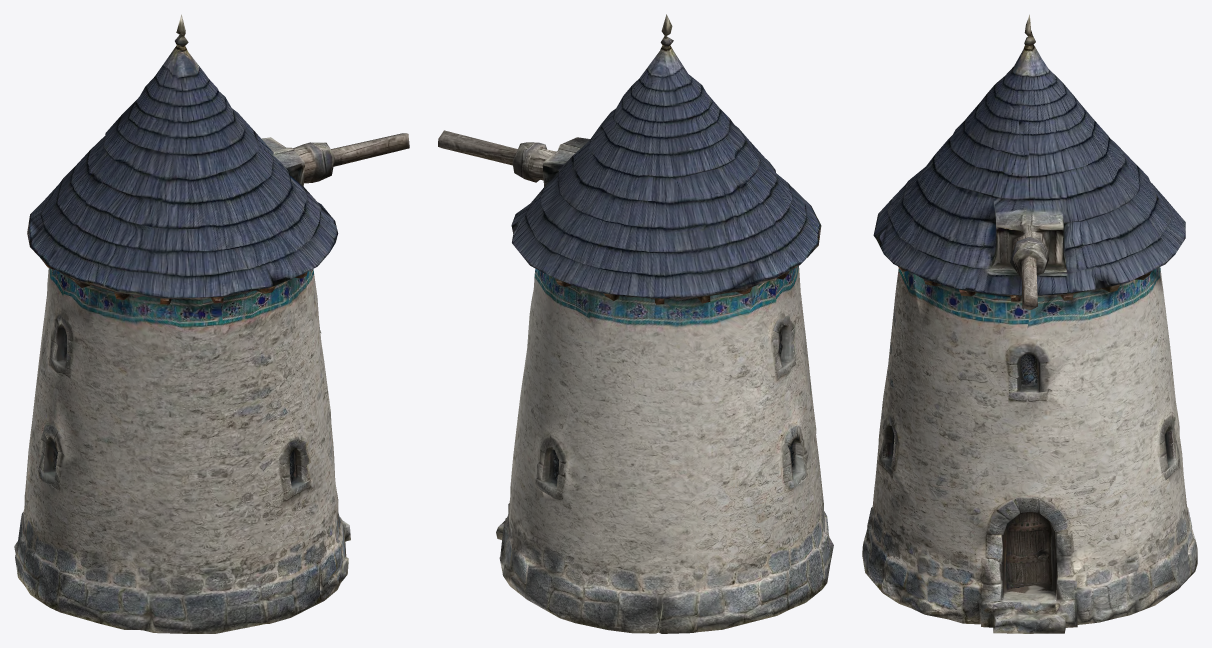
File: windmill_tower.glb
The picture shows the model from 3 angles, left to right: view 1: azimuth 30°, elevation 25°; view 2: azimuth 150°, elevation 25°; view 3: azimuth 270°, elevation 25°; orthographic projection.
Visible parts, largest first — view 1: tripo_node_94381f49-bbe7-4559-b29f-9f09b01adcb8; view 2: tripo_node_94381f49-bbe7-4559-b29f-9f09b01adcb8; view 3: tripo_node_94381f49-bbe7-4559-b29f-9f09b01adcb8.
Boxes of the visible parts, left/top/right/bottom form: tripo_node_94381f49-bbe7-4559-b29f-9f09b01adcb8: left=14, top=14, right=409, bottom=633; tripo_node_94381f49-bbe7-4559-b29f-9f09b01adcb8: left=438, top=14, right=833, bottom=633; tripo_node_94381f49-bbe7-4559-b29f-9f09b01adcb8: left=862, top=14, right=1197, bottom=633.
Size of the model in its own units: 0.6928 by 0.9835 by 0.5478.
1 material, 1 textured.
